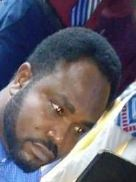without_facemask: (15, 97, 71, 169)
